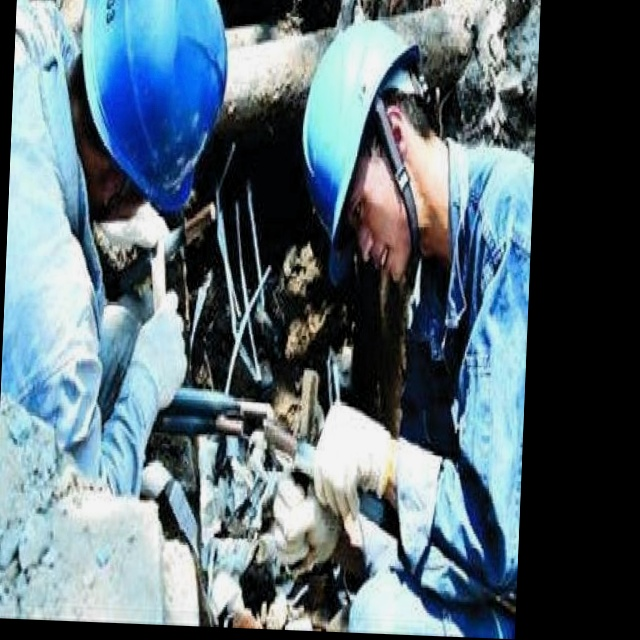Con_Casco: (304, 18, 448, 276), (72, 0, 224, 214)
